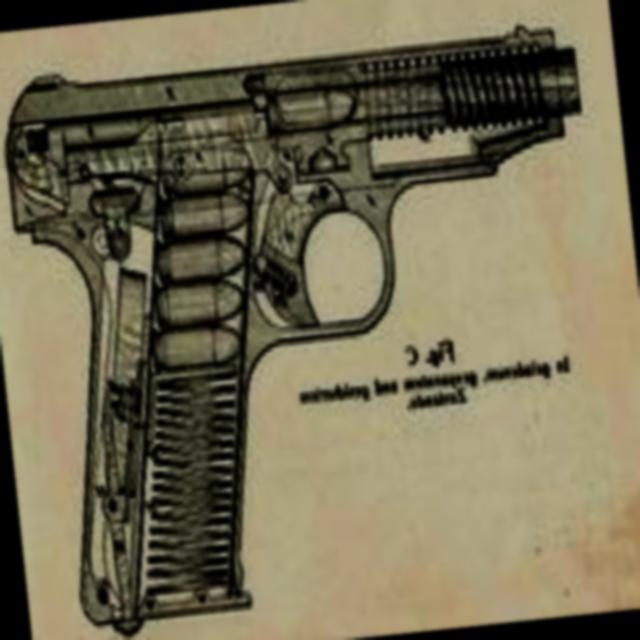semi automatic: (6, 23, 633, 640)
